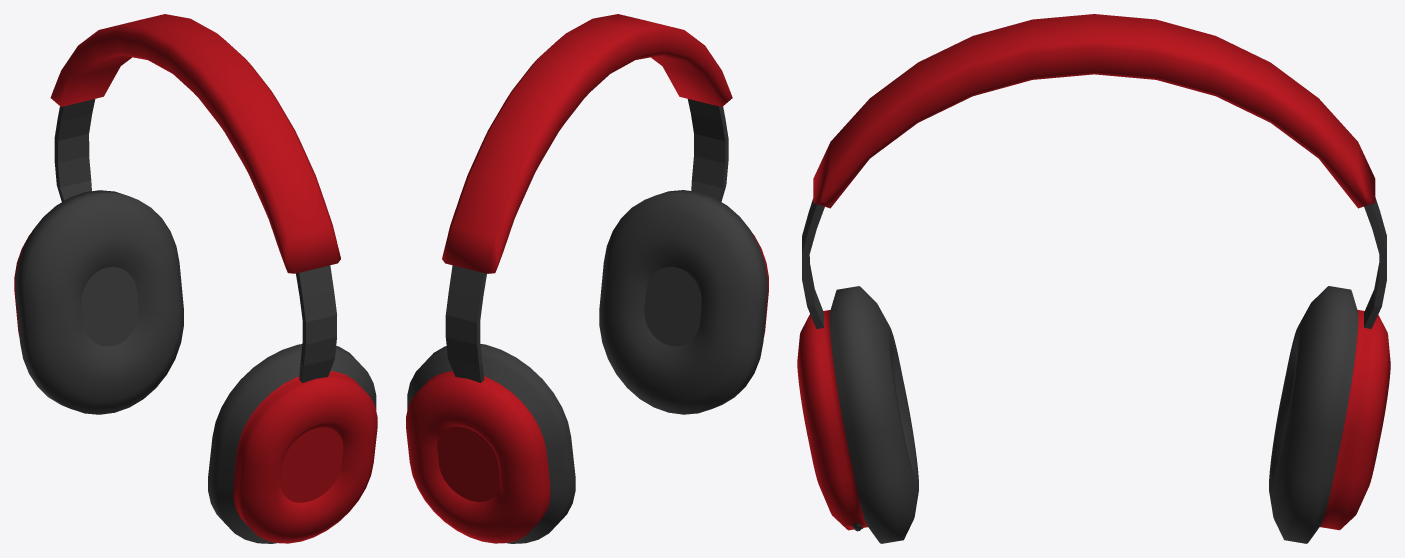
File: Auriculares.fbx
3 renders of one model, left to right at view 1: azimuth 30°, elevation 25°; view 2: azimuth 150°, elevation 25°; view 3: azimuth 270°, elevation 25°, orthographic. The views are drawn at different scales.
Parts seen in each view (by area): view 1: Auris.003; view 2: Auris.003; view 3: Auris.003.
Part boxes in pixels (<box>): Auris.003: <box>14,14,377,543</box>; Auris.003: <box>406,14,768,543</box>; Auris.003: <box>797,14,1390,543</box>.
Bounding box in the file's own units: 132 × 356 × 376.
Materials: 1 (1 with a texture image).
